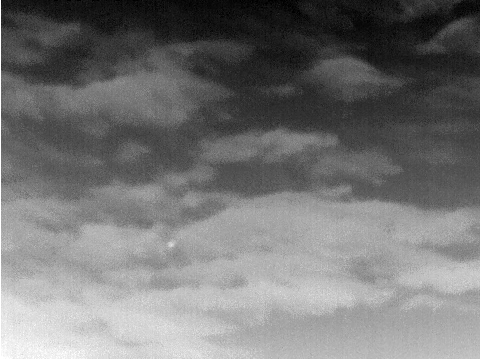dim target: (167, 241, 175, 248)
